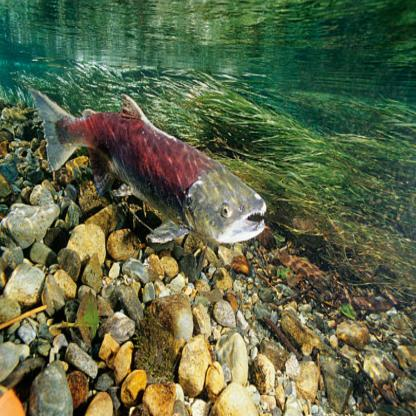sockeye: (28, 83, 263, 251)
